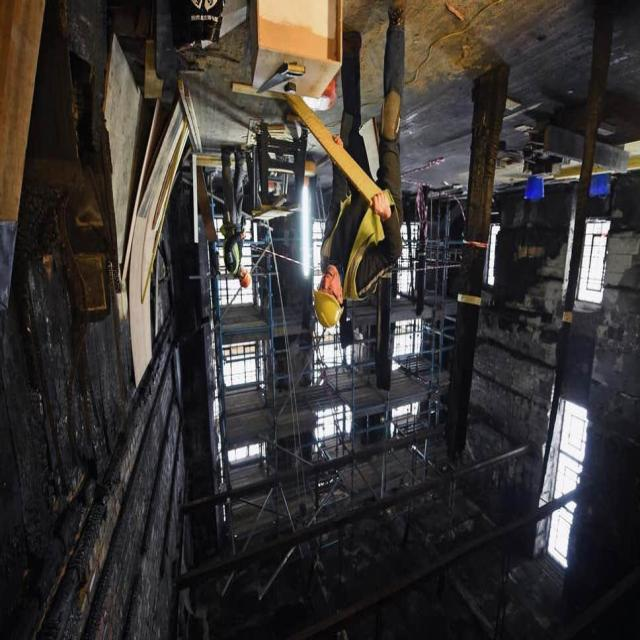helmet: (308, 284, 342, 334), (237, 268, 252, 292)
